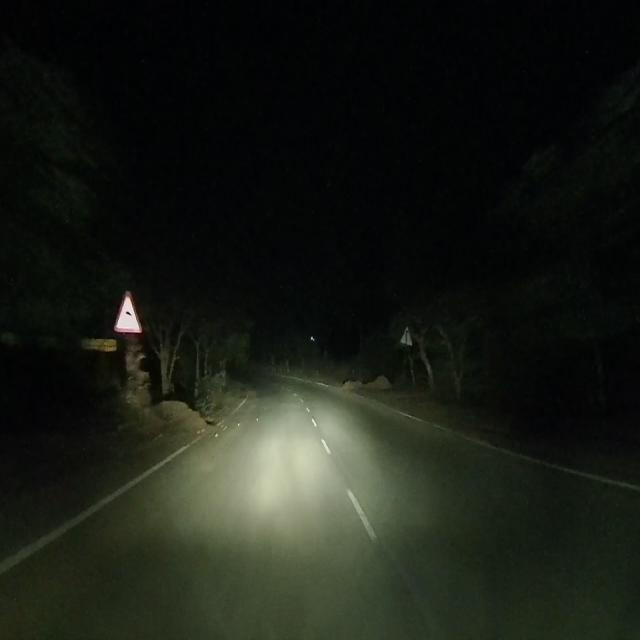left-hand-curve: (114, 290, 139, 329)
